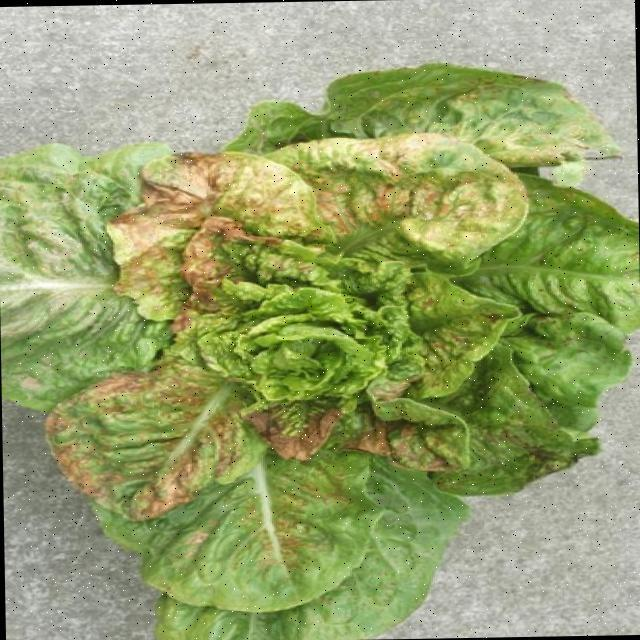Powdery_Mildew: (40, 133, 501, 544)
